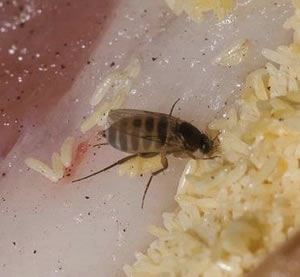phorid fly: (64, 86, 227, 203)
